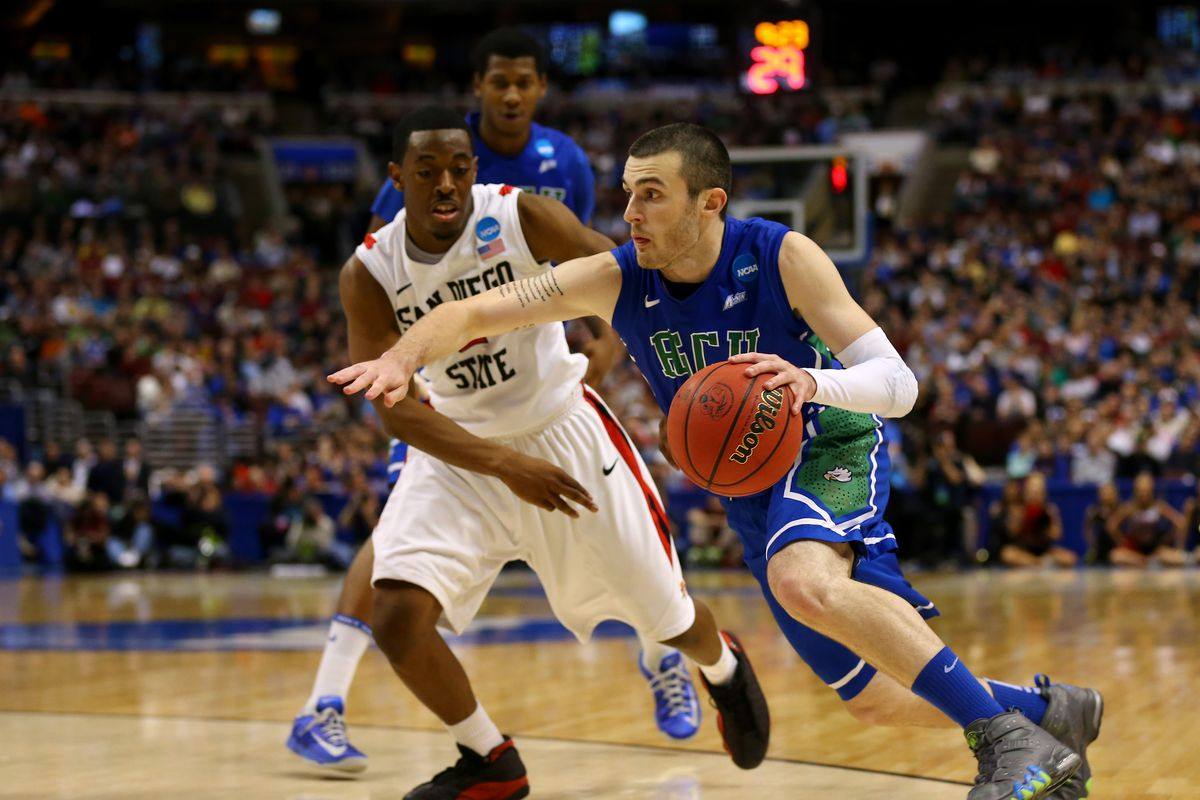ball: (660, 354, 816, 509)
defense: (333, 113, 690, 800)
